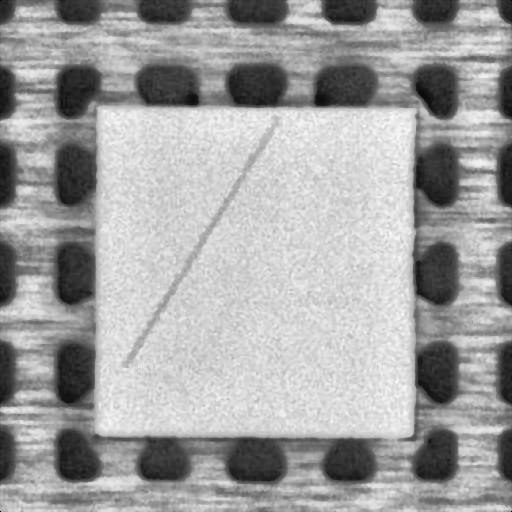DIE_CRACK: (129, 114, 285, 352)
